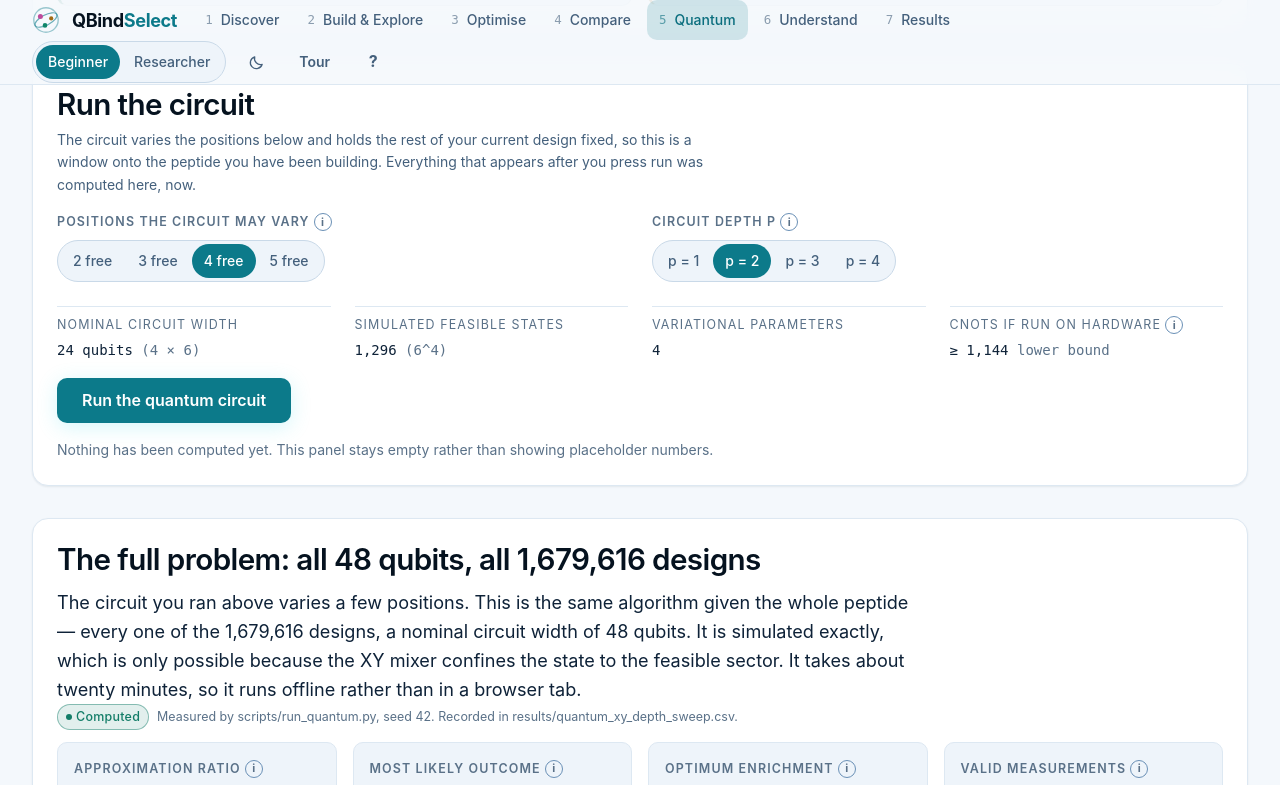
Test case: Quantum screen: the live run › shows the proven optimum beside the circuit answer, not instead of it
(page scrolled)
Click the button "Run the quantum circuit".
click(174, 400)  # box [57,378,291,423]
(page scrolled)
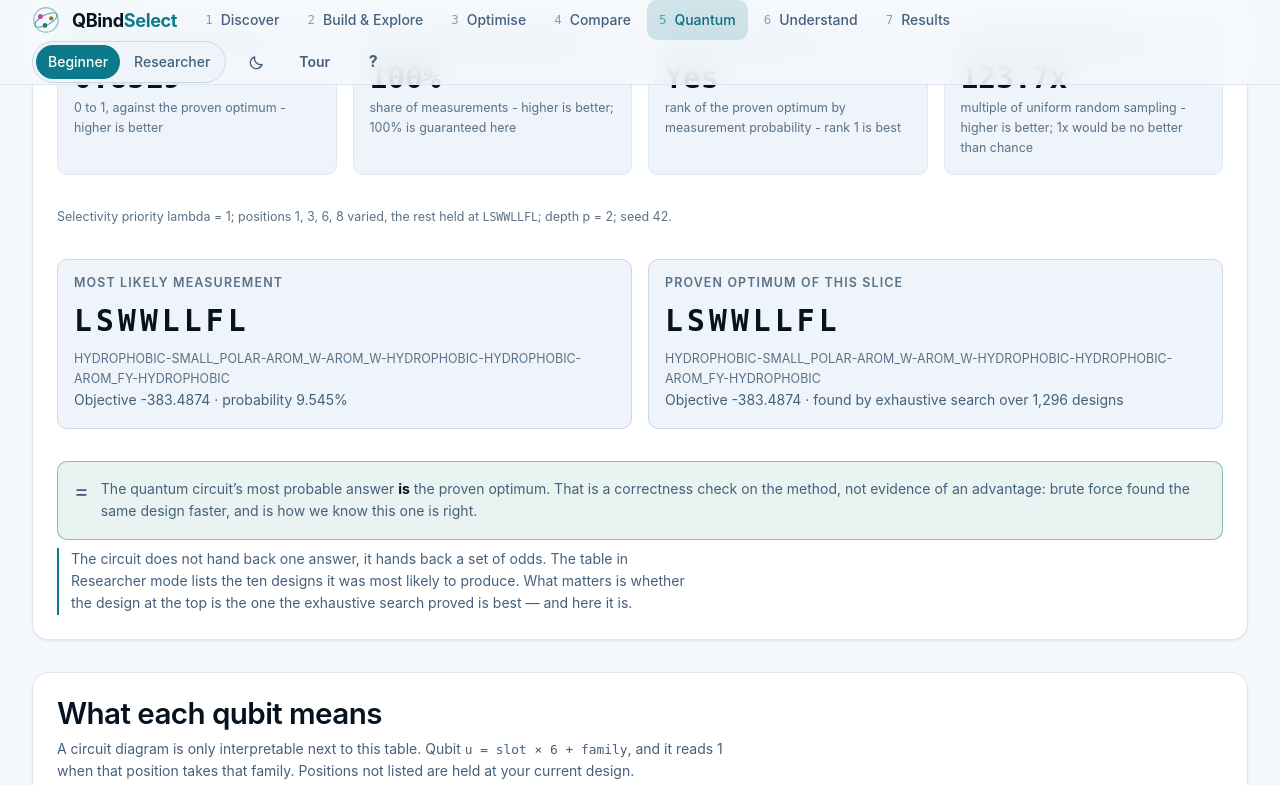
Expected: the heading "Most likely measurement" is shown, [74,275,283,290]
Expected: the heading "Proven optimum of this slice" is shown, [665,275,903,290]
Expected: the text "found by exhaustive search" is shown, [801,391,1032,408]
